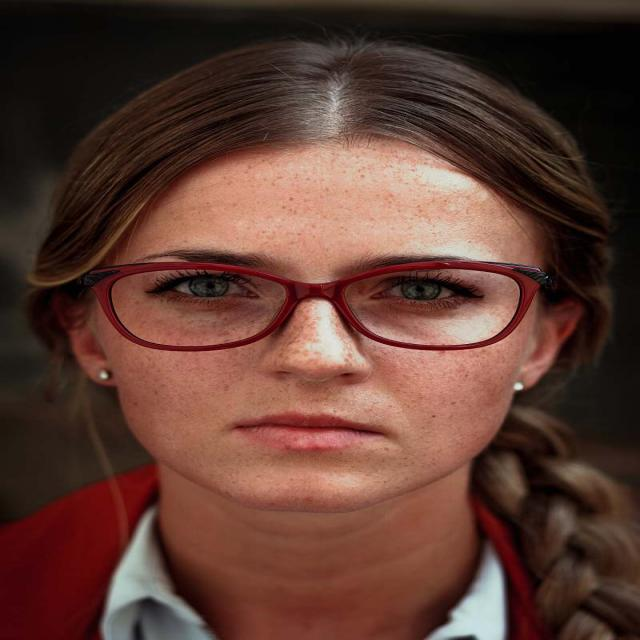Glasses: (80, 258, 560, 354)
